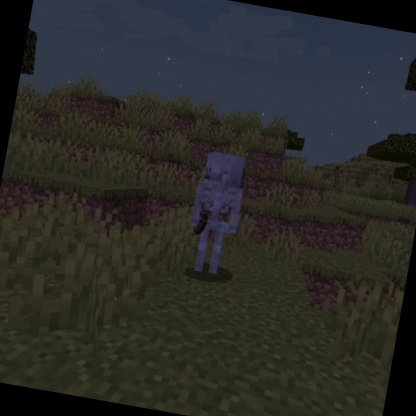skeleton: (176, 145, 255, 282)
